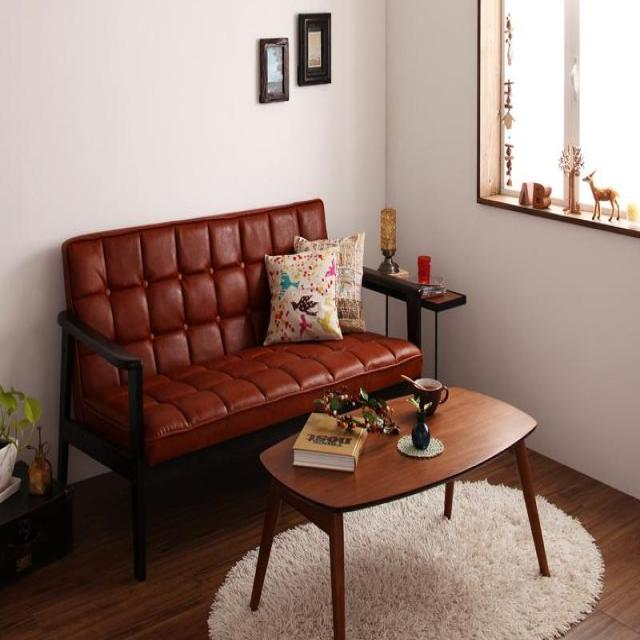vintage desk: (246, 384, 552, 638)
vintage sofa: (48, 202, 429, 395), (65, 192, 247, 577)
